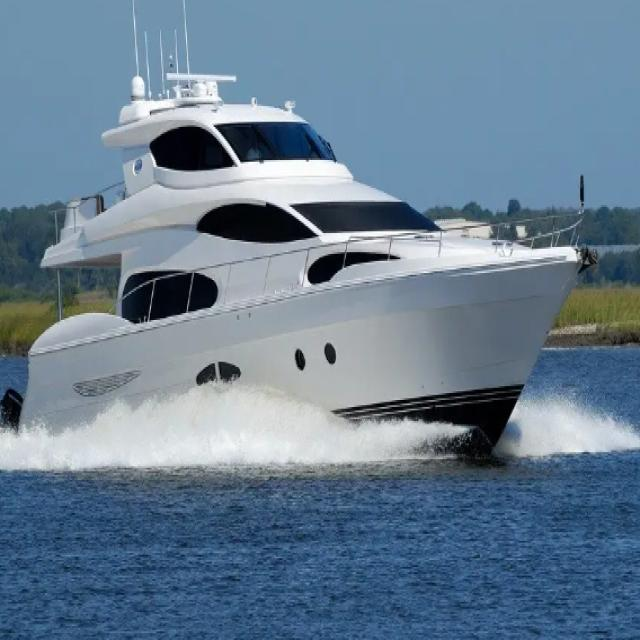houseboat: (29, 72, 574, 466)
